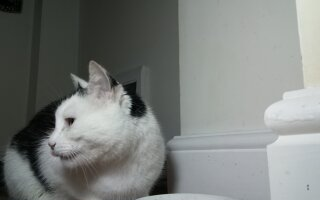bad: (5, 62, 168, 197)
